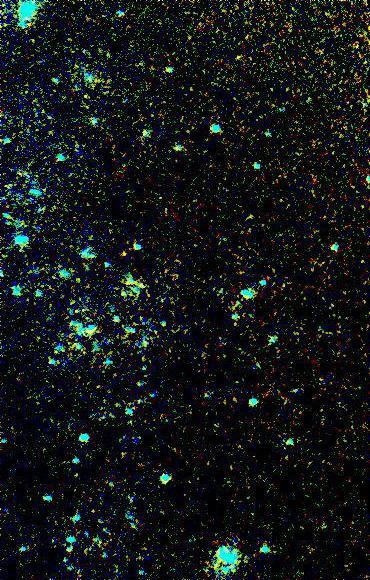star: (107, 240, 137, 270)
